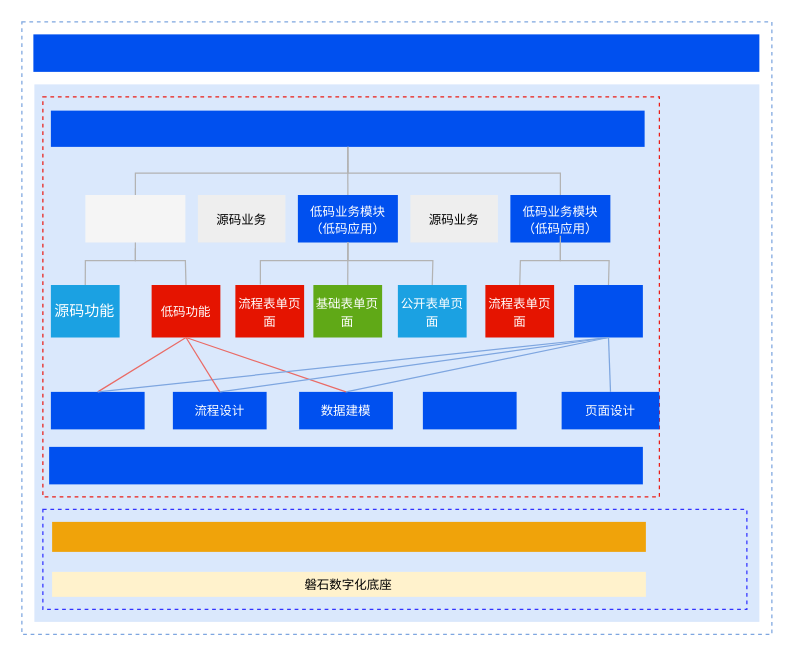
The diagram is 794 pixels wide and 656 high, and some of its shapes have lost their labels. Here are the shapes that lost their labels. From the top down, the centre of each, then its label:
the point at 396,52: 低代码开发平台
the point at 347,128: 项目（管理信息系统、研发项目、生产项目）
the point at 135,218: 源码业务模块 （源码应用）
the point at 608,310: 自定义页面
the point at 97,410: 表单设计
the point at 469,410: 表格设计
the point at 345,465: 生态市场（组件、基础模板、业务模板）
the point at 348,536: 低代码开发平台框架
